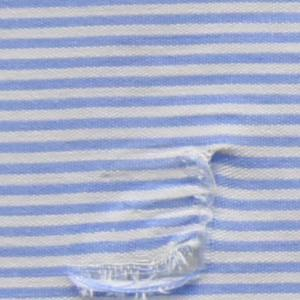Damage: (67, 140, 242, 300)
